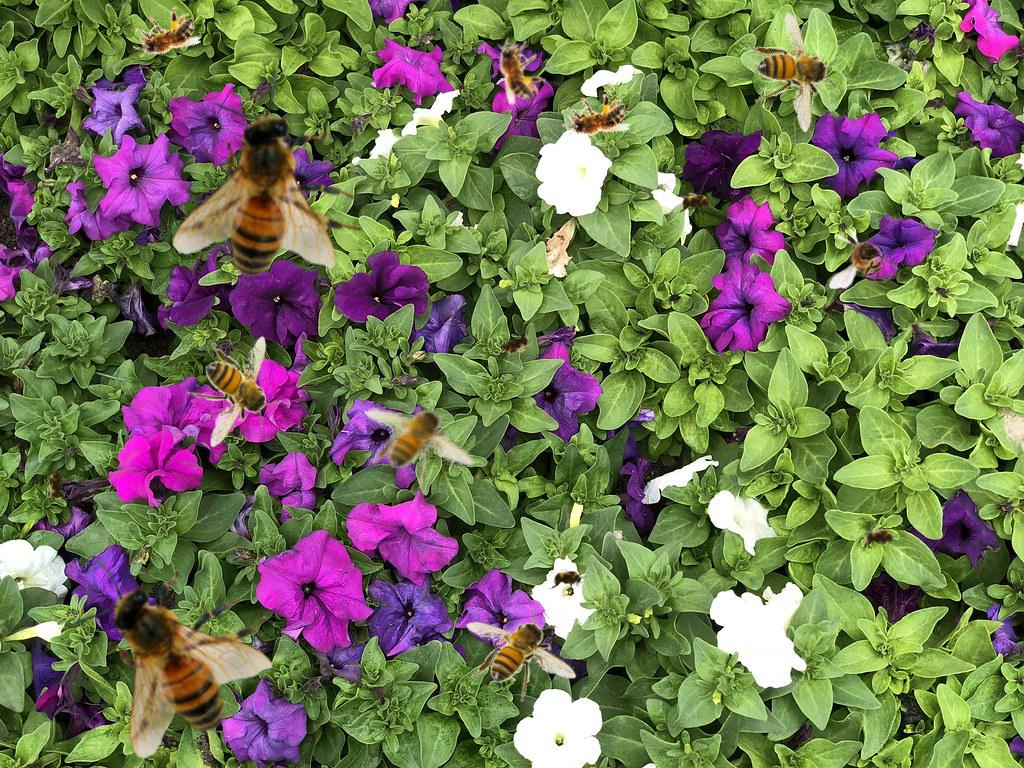Bee: (124, 51, 409, 335), (67, 547, 278, 763), (723, 2, 864, 148), (185, 335, 282, 449), (466, 608, 577, 702), (364, 395, 475, 489), (124, 0, 204, 71), (484, 29, 552, 108), (555, 85, 633, 150), (829, 228, 899, 289), (492, 326, 538, 362), (46, 465, 68, 505), (548, 568, 588, 590), (676, 192, 716, 214), (860, 527, 900, 549)
